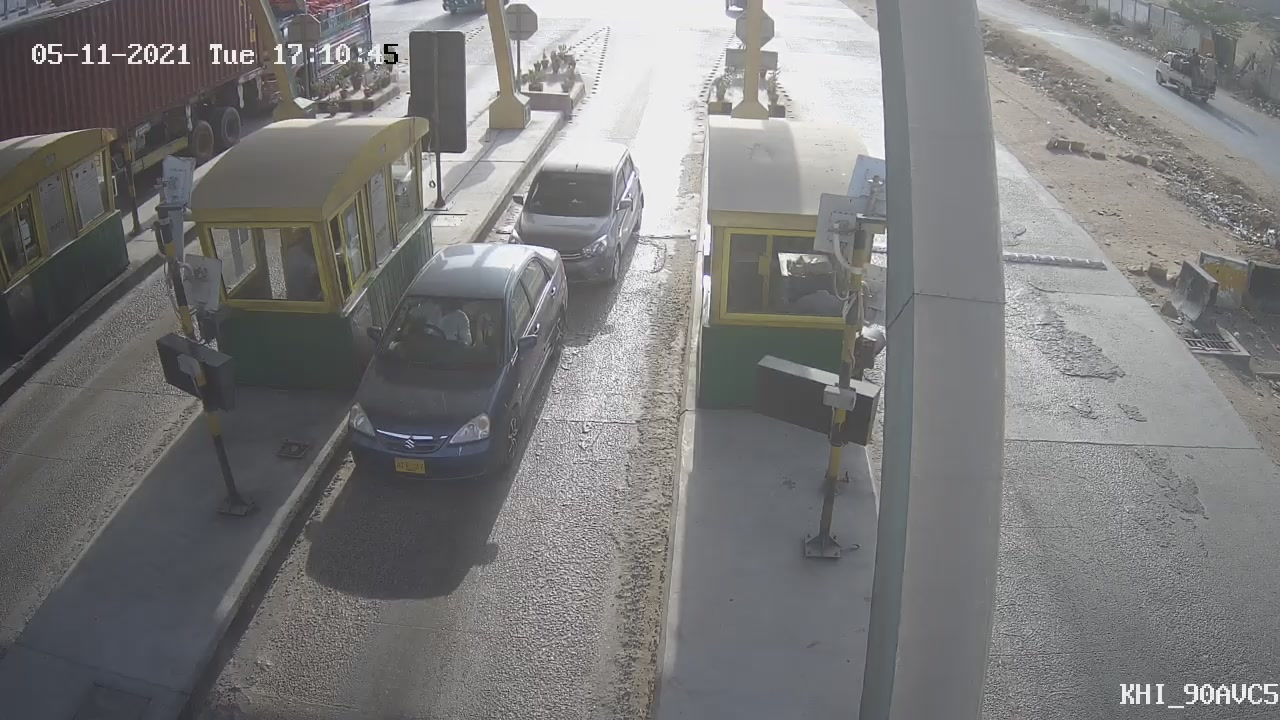F1: (322, 230, 587, 500), (483, 131, 670, 303)
